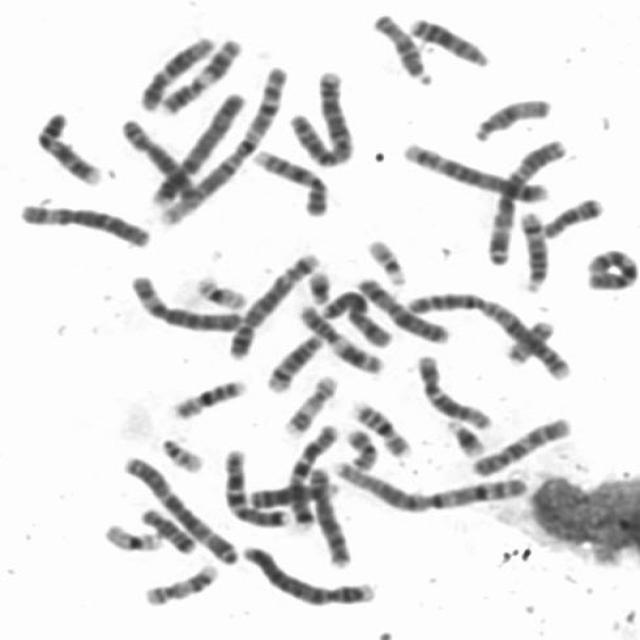A1: (156, 64, 292, 230), (332, 463, 532, 516)
A2: (403, 291, 574, 383), (282, 66, 361, 170)
A3: (122, 454, 240, 567), (484, 139, 567, 268)
B4: (140, 92, 257, 208), (240, 544, 378, 608)
B5: (223, 250, 316, 363), (400, 142, 551, 205)
C10: (468, 418, 572, 476), (585, 247, 640, 291)
C11: (290, 298, 390, 377), (158, 39, 246, 117)
C12: (410, 351, 493, 432), (137, 34, 217, 116)
C6: (14, 199, 154, 251), (127, 274, 246, 334)
C7: (220, 446, 292, 536), (287, 421, 341, 532)
C8: (120, 116, 205, 205), (304, 464, 354, 570)
C9: (247, 147, 336, 220), (32, 108, 104, 186)
D13: (405, 16, 494, 69), (248, 481, 346, 509)
D14: (264, 333, 325, 393), (513, 210, 550, 296)
D15: (370, 13, 435, 88), (470, 97, 550, 143)
E16: (167, 377, 251, 423), (350, 400, 414, 459)
E17: (280, 372, 340, 440), (142, 562, 222, 608)
E18: (138, 506, 198, 556), (536, 196, 606, 238)
F19: (188, 275, 250, 314), (102, 523, 163, 555)
F20: (502, 318, 556, 366), (343, 427, 378, 474)
G21: (441, 417, 490, 459), (304, 267, 336, 309)
G22: (155, 436, 205, 476), (364, 238, 406, 285)
X: (353, 273, 449, 351), (316, 288, 388, 346)
